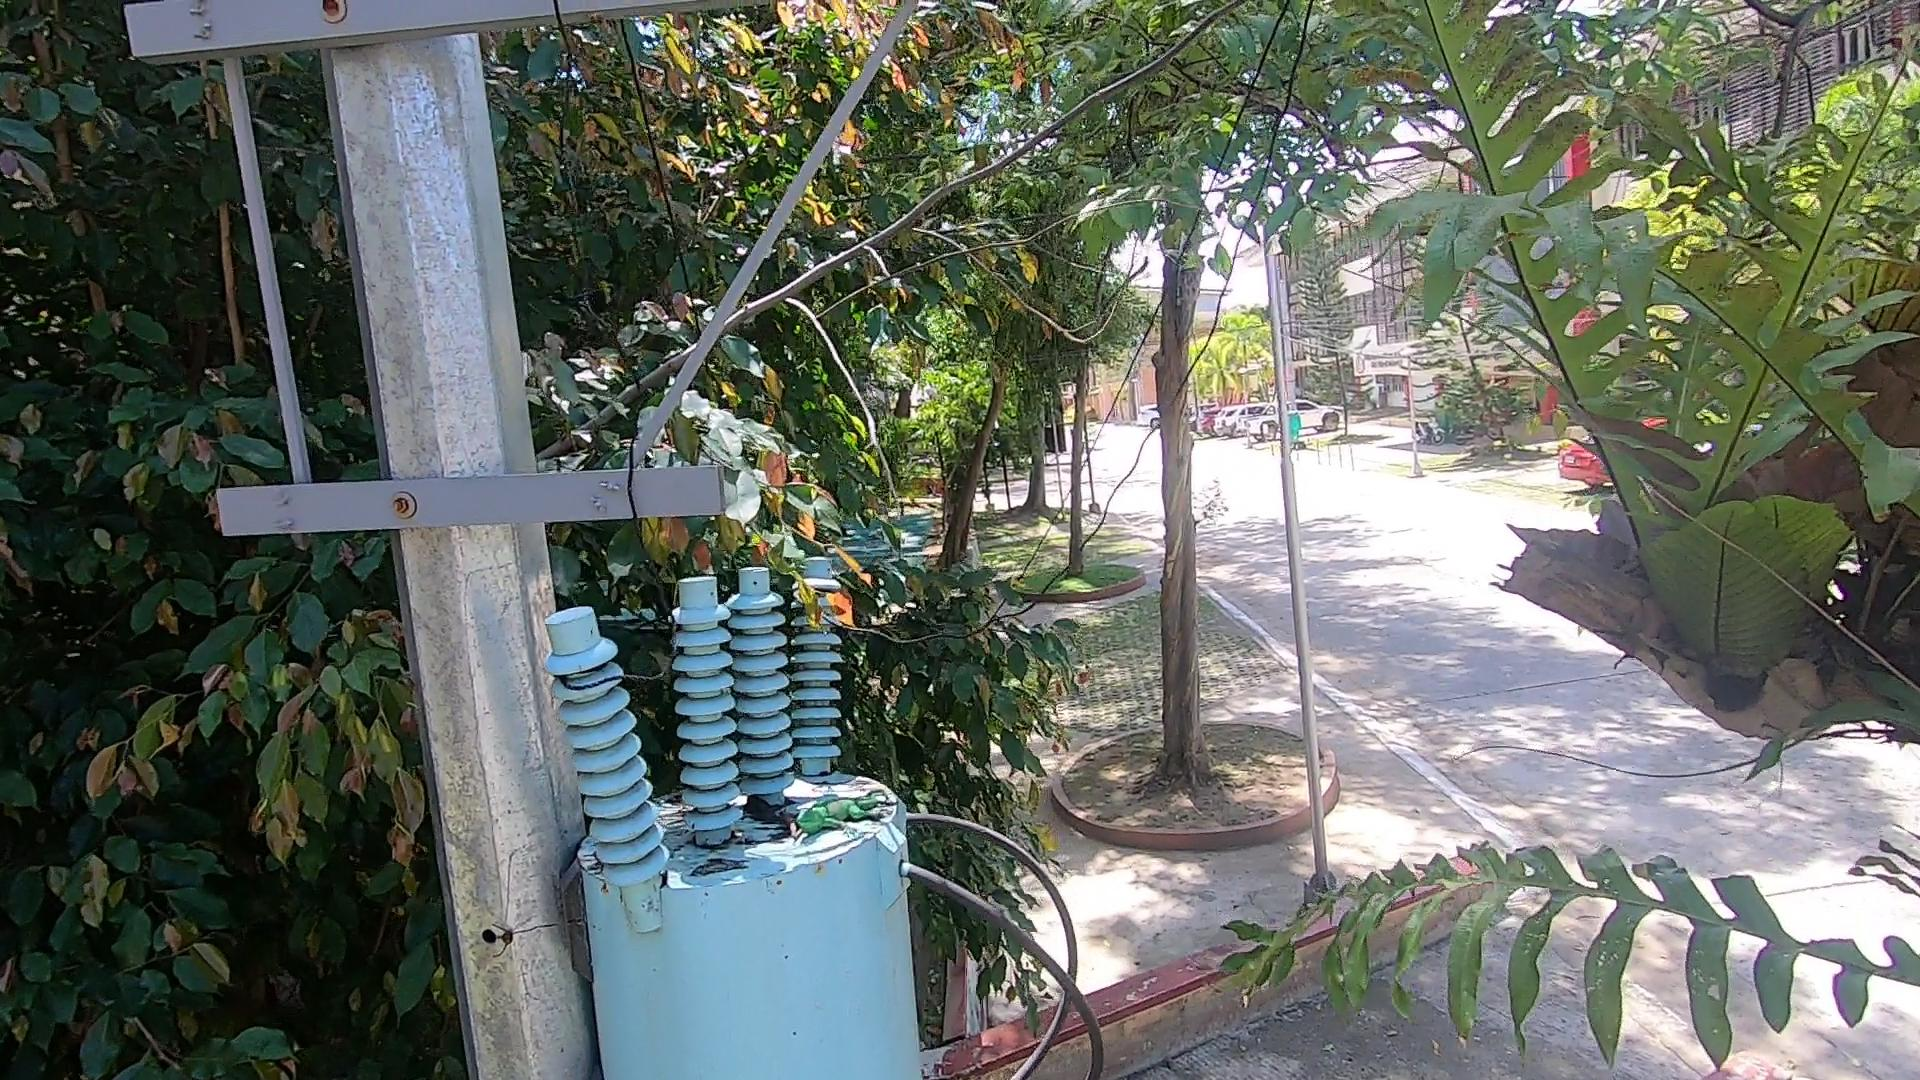leaf: (742, 790, 782, 836), (782, 811, 804, 858)
tree branch: (531, 1, 1352, 463)
